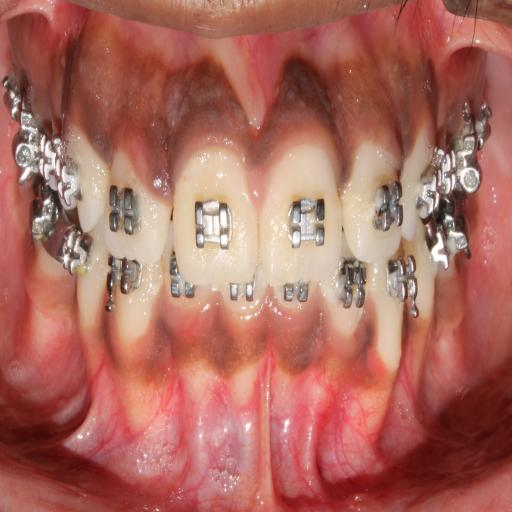correct_brace: (284, 191, 328, 251), (193, 190, 233, 253), (104, 182, 144, 243), (368, 174, 404, 240)
incorrect_brace: (99, 145, 168, 266), (345, 139, 404, 265)
